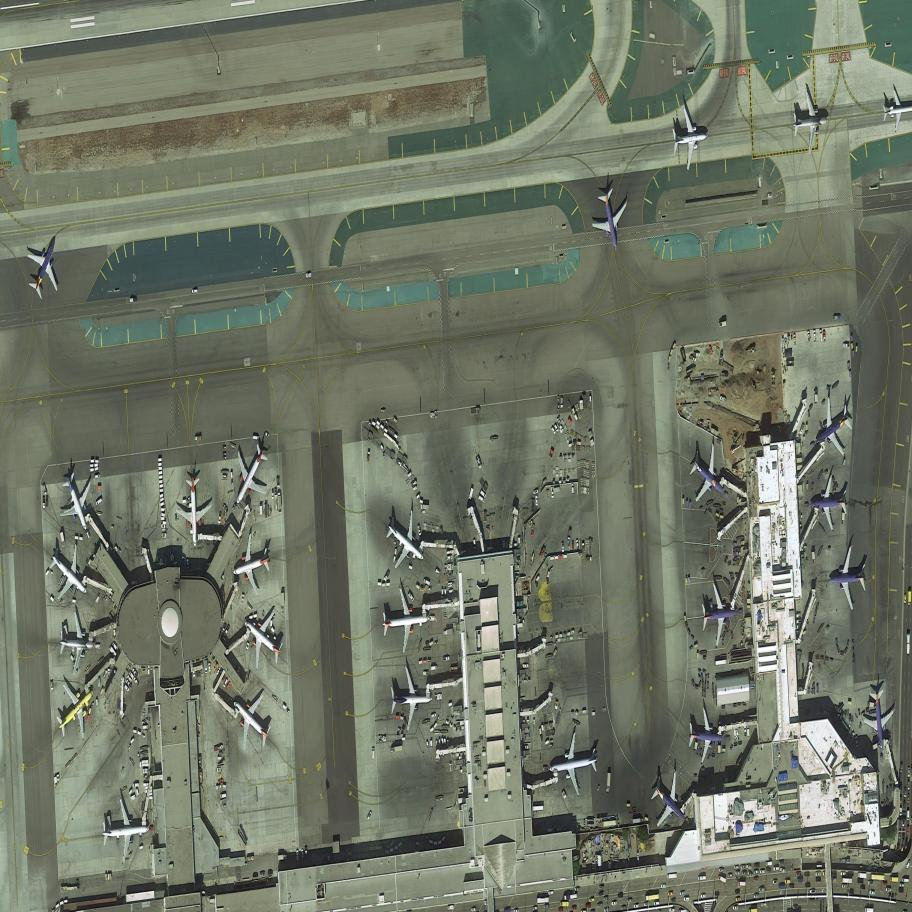large-vehicle: (716, 874, 728, 885), (563, 893, 579, 901), (871, 873, 886, 881), (442, 628, 455, 637), (605, 773, 611, 792), (277, 492, 282, 513), (645, 894, 660, 901), (537, 897, 550, 903), (889, 876, 899, 882), (667, 873, 677, 879), (857, 873, 867, 879), (842, 878, 853, 883), (560, 902, 569, 907), (698, 876, 707, 881), (737, 881, 746, 886)
plane: (209, 424, 290, 524), (215, 671, 290, 769), (31, 527, 107, 622), (629, 757, 707, 848), (370, 494, 443, 588), (42, 665, 111, 761), (675, 426, 742, 522), (11, 221, 79, 313), (43, 460, 109, 550), (802, 384, 865, 474), (231, 595, 296, 682), (586, 181, 638, 264), (99, 794, 151, 869), (546, 727, 600, 799), (382, 585, 431, 658), (230, 528, 275, 607), (389, 663, 432, 735), (171, 476, 214, 548), (56, 607, 99, 679), (670, 102, 711, 175), (791, 88, 831, 159), (828, 544, 868, 613), (686, 703, 728, 767), (808, 472, 850, 535), (860, 686, 899, 753), (701, 580, 738, 650), (880, 85, 912, 138)
small-vehicle: (382, 569, 391, 582), (131, 676, 141, 687), (478, 489, 488, 499), (130, 667, 140, 677), (407, 591, 416, 602), (366, 810, 374, 822), (422, 577, 432, 586), (688, 354, 698, 363), (124, 679, 133, 689), (798, 423, 805, 435), (476, 495, 486, 503), (126, 674, 134, 684), (905, 859, 912, 870), (907, 591, 912, 606), (708, 344, 714, 356), (123, 684, 131, 693), (746, 870, 755, 878), (718, 395, 728, 402), (553, 423, 560, 433), (550, 426, 557, 436), (225, 681, 232, 691), (222, 678, 229, 688), (111, 641, 118, 651), (128, 671, 135, 680), (472, 538, 477, 550), (300, 847, 305, 859), (806, 331, 812, 341), (215, 666, 221, 676), (41, 497, 46, 509), (854, 736, 859, 748), (214, 784, 222, 791), (216, 744, 224, 751), (779, 867, 787, 874), (822, 329, 826, 342), (819, 329, 823, 342), (575, 538, 579, 551), (295, 849, 299, 862), (220, 793, 227, 800), (447, 904, 454, 911), (617, 892, 624, 899), (430, 665, 438, 671), (252, 435, 260, 441), (693, 351, 701, 357), (813, 329, 817, 341), (546, 827, 554, 833), (561, 541, 565, 553), (571, 483, 575, 495), (220, 675, 226, 683), (208, 663, 212, 675), (218, 512, 222, 524), (678, 890, 686, 896), (598, 890, 604, 898), (868, 890, 876, 896), (502, 540, 506, 551), (743, 726, 747, 737), (900, 845, 904, 856), (430, 713, 437, 719), (448, 588, 455, 594), (533, 489, 539, 496), (843, 343, 850, 349), (142, 724, 149, 730), (191, 288, 198, 294), (660, 883, 667, 889), (733, 864, 740, 870), (746, 863, 752, 870), (752, 876, 759, 882), (544, 903, 550, 910), (611, 900, 618, 906), (586, 902, 592, 909), (589, 897, 596, 903), (597, 902, 603, 909), (443, 656, 451, 661), (778, 885, 786, 890), (107, 668, 110, 680), (441, 587, 444, 599), (793, 333, 796, 345), (94, 473, 100, 479), (644, 902, 650, 908), (684, 896, 690, 902), (735, 870, 741, 876), (740, 863, 746, 869), (634, 903, 640, 909), (621, 905, 627, 911), (571, 905, 577, 911), (599, 884, 605, 890), (603, 896, 609, 902), (735, 896, 741, 902), (898, 828, 901, 840), (882, 881, 888, 887), (305, 273, 312, 278), (423, 671, 430, 676), (522, 663, 529, 668), (667, 891, 674, 896), (718, 867, 725, 872), (742, 869, 747, 876), (765, 861, 772, 866), (575, 887, 582, 892), (760, 902, 767, 907), (902, 878, 909, 883), (784, 879, 791, 884), (841, 884, 848, 889), (885, 887, 892, 892), (372, 748, 375, 759), (535, 496, 538, 507), (551, 487, 554, 498), (904, 594, 907, 605), (900, 763, 903, 774), (907, 767, 910, 778), (907, 779, 910, 790), (907, 810, 910, 821), (903, 800, 906, 811), (904, 787, 907, 798), (471, 907, 477, 912), (260, 871, 266, 876), (747, 726, 750, 736), (133, 783, 139, 788), (186, 559, 189, 569), (653, 901, 659, 906), (700, 893, 706, 898), (727, 873, 733, 878), (754, 862, 760, 867), (754, 869, 760, 874), (773, 867, 779, 872), (760, 869, 766, 874), (627, 898, 633, 903), (860, 884, 865, 890), (548, 891, 554, 896), (604, 907, 610, 912), (754, 893, 759, 899), (902, 830, 905, 840), (907, 826, 910, 836), (902, 818, 905, 828), (899, 806, 902, 816), (815, 871, 821, 876), (759, 887, 765, 892), (773, 879, 778, 885), (796, 872, 802, 877), (868, 880, 874, 885), (899, 883, 905, 888), (907, 794, 910, 803), (380, 409, 385, 414), (533, 906, 538, 911), (789, 884, 794, 889), (732, 906, 738, 910), (272, 488, 274, 500), (857, 879, 863, 883), (805, 883, 811, 887), (804, 872, 810, 876), (831, 878, 837, 882), (810, 889, 816, 893), (840, 872, 846, 876), (900, 782, 902, 791), (816, 878, 821, 881)
